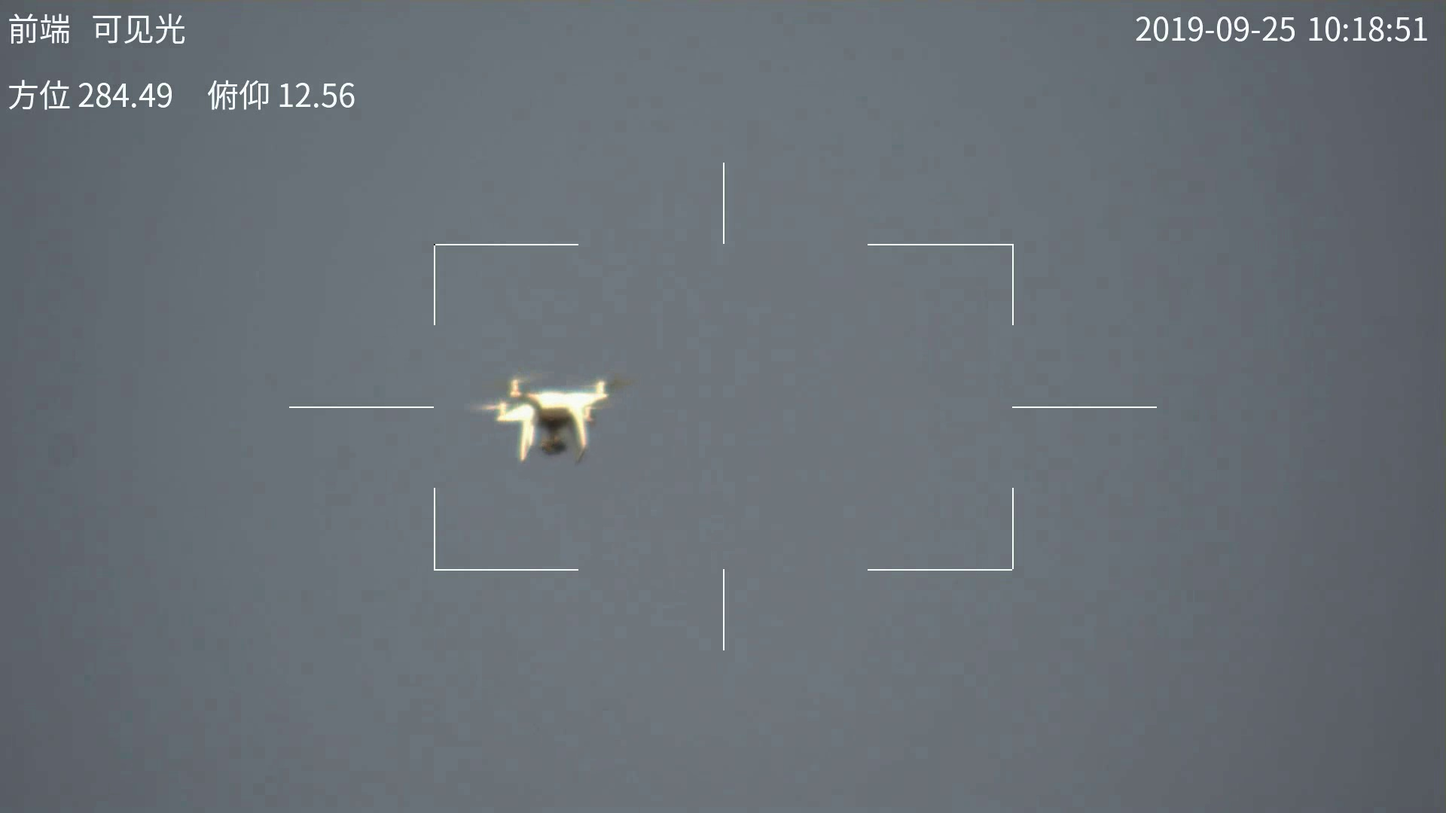drone_other: (478, 374, 621, 464)
